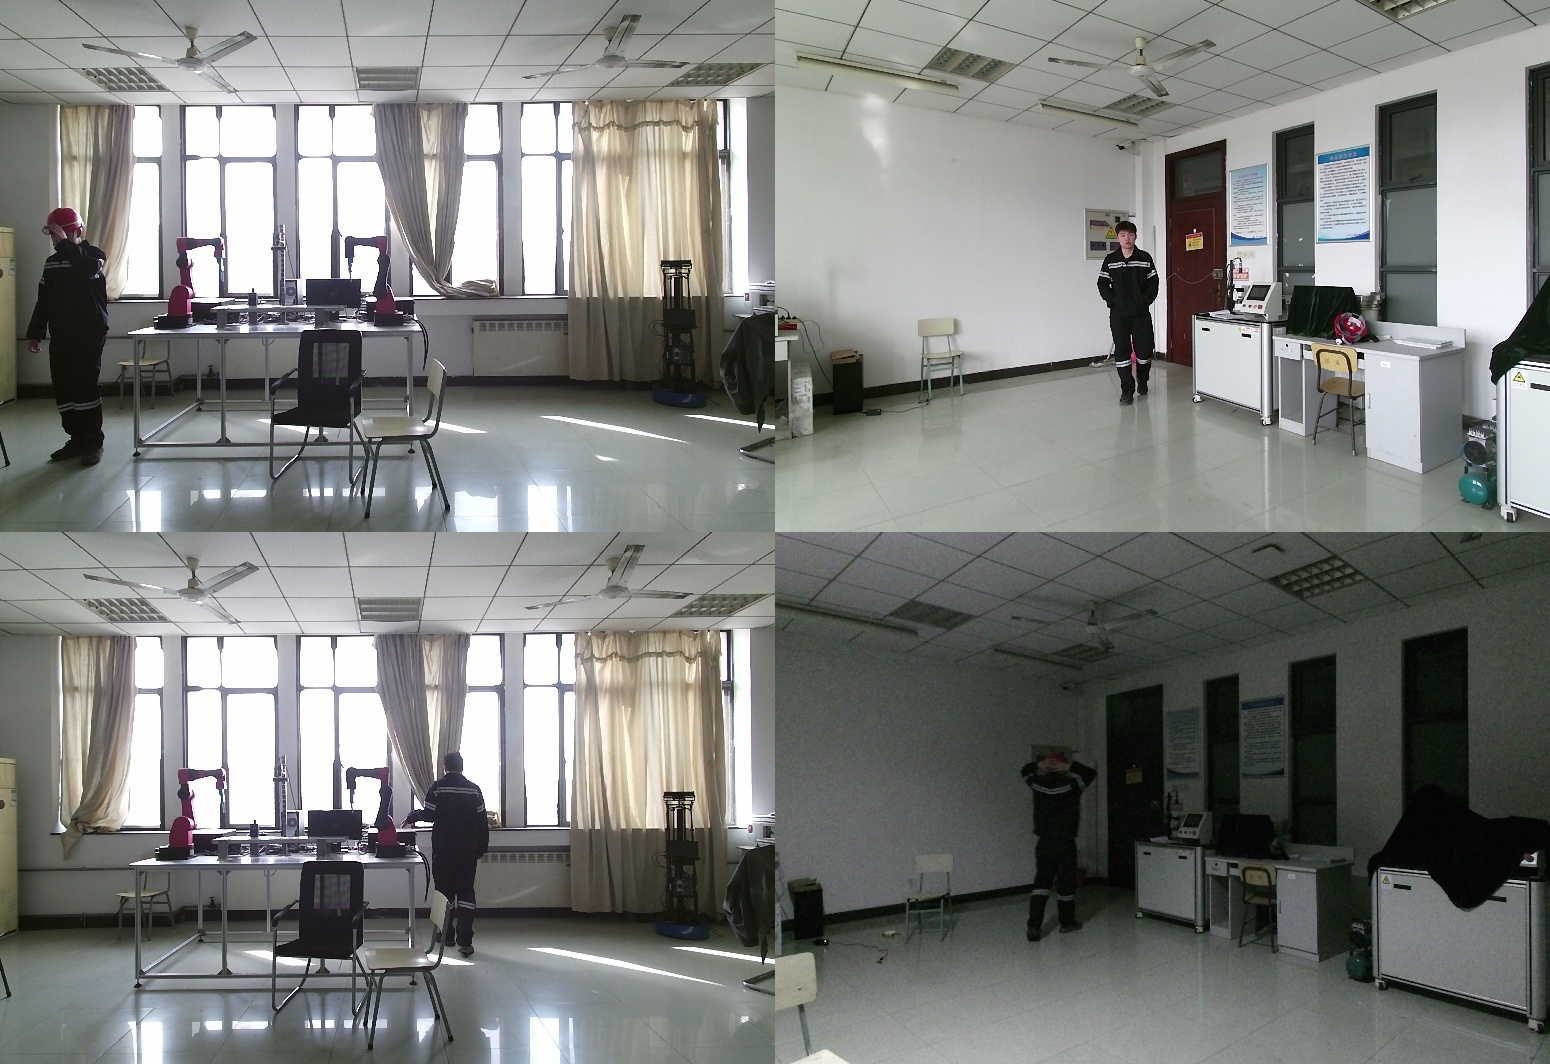person: (27, 211, 122, 465), (404, 749, 496, 966), (1011, 754, 1092, 952), (1096, 224, 1162, 410)
